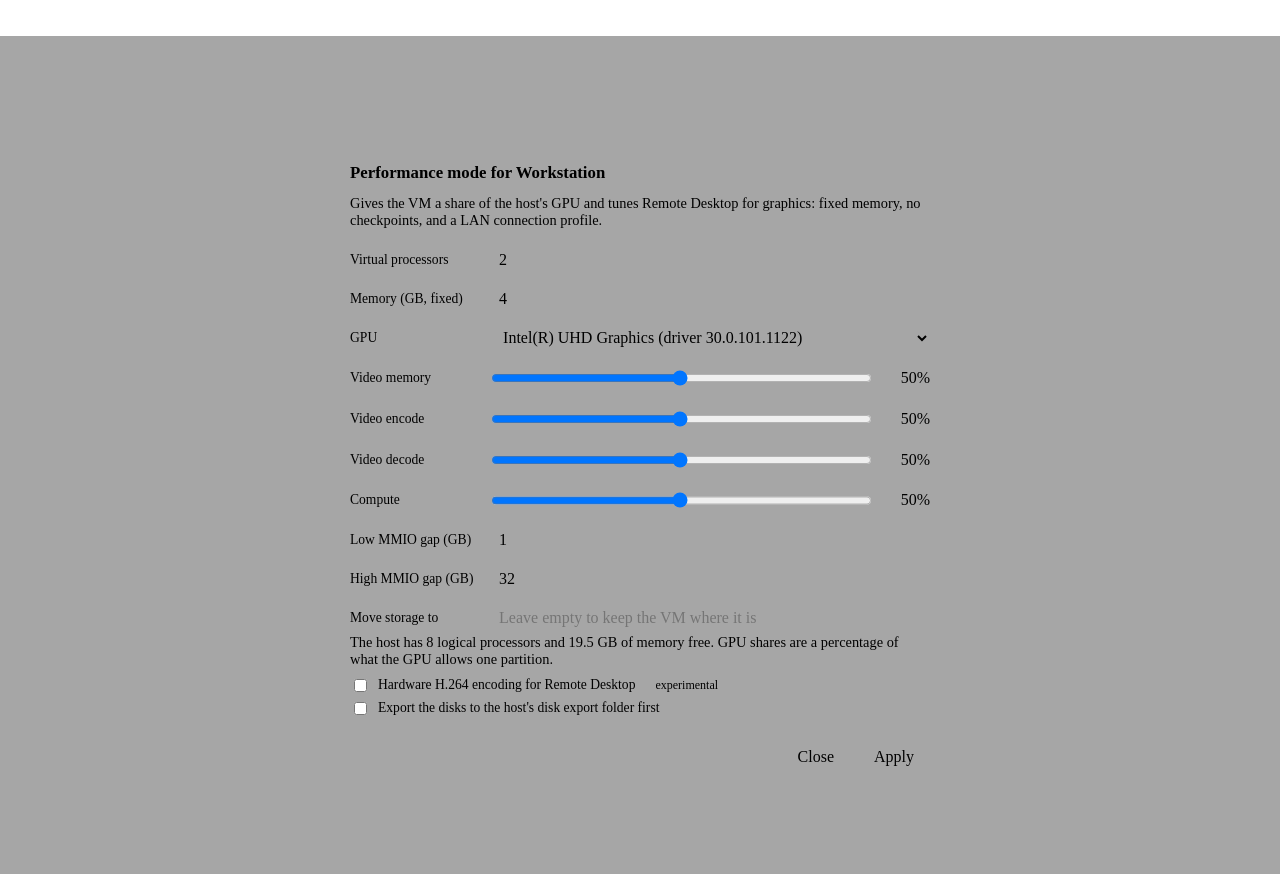
Test: PerformanceDialog › applies to an off VM with the host's GPU, even shares, and hardware encoding off
expect the checkbox labelled "Hardware H.264 encoding for Remote Desktop experimental" is not checked: met, box [354,679,367,692]
Click the button "Apply" at (894,756), box [858,740,930,773]
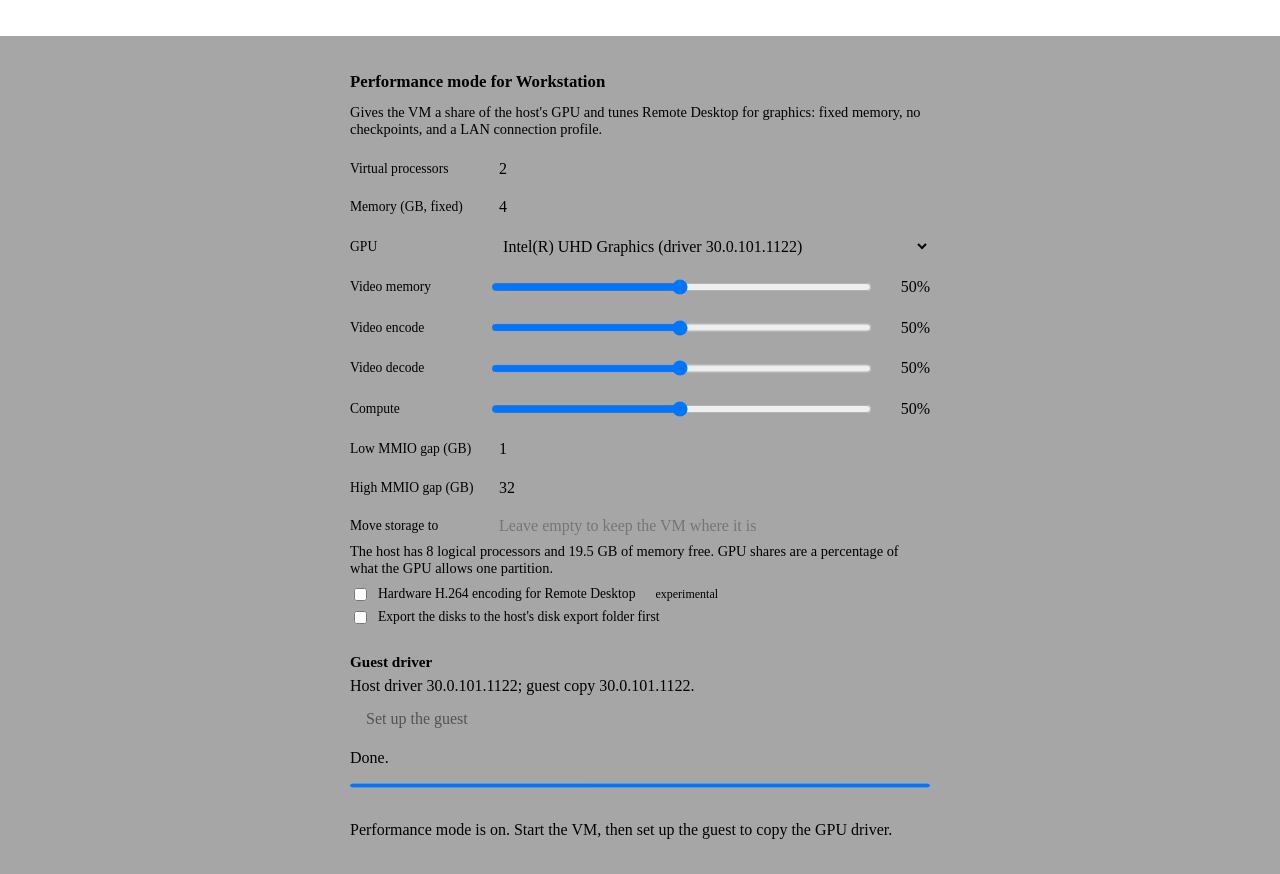
expect the text "Performance mode is on" is shown: met, box [350,821,892,838]
